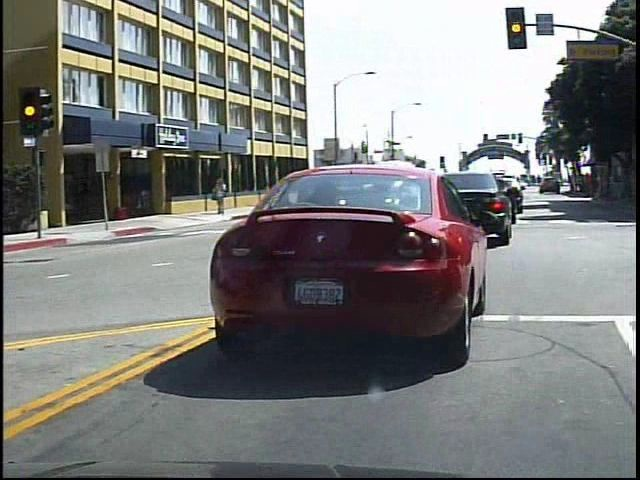person: (214, 174, 233, 218)
